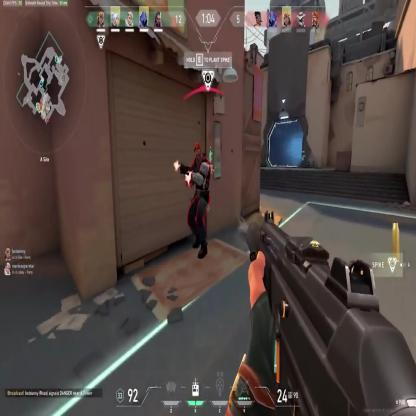enemy: (186, 143, 212, 259)
enemy_head: (193, 143, 202, 163)
